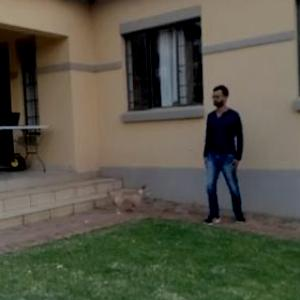follow: (199, 82, 246, 227)
